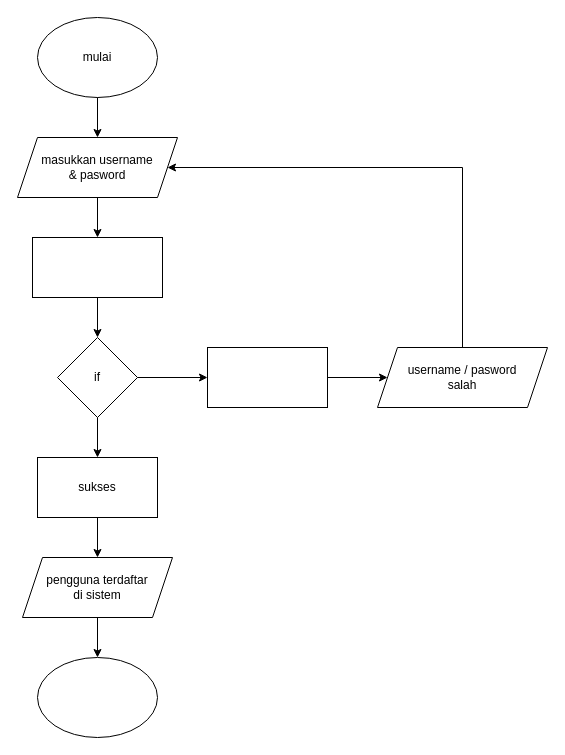
Some shapes in this 565 by 755 pixel diagram are drawn without their labels. Each missing label, with the centre of its shape:
"error" belongs at [267,377].
"memeriksa username & pasword di sistem" belongs at [97,267].
"selesai" belongs at [97,697].
